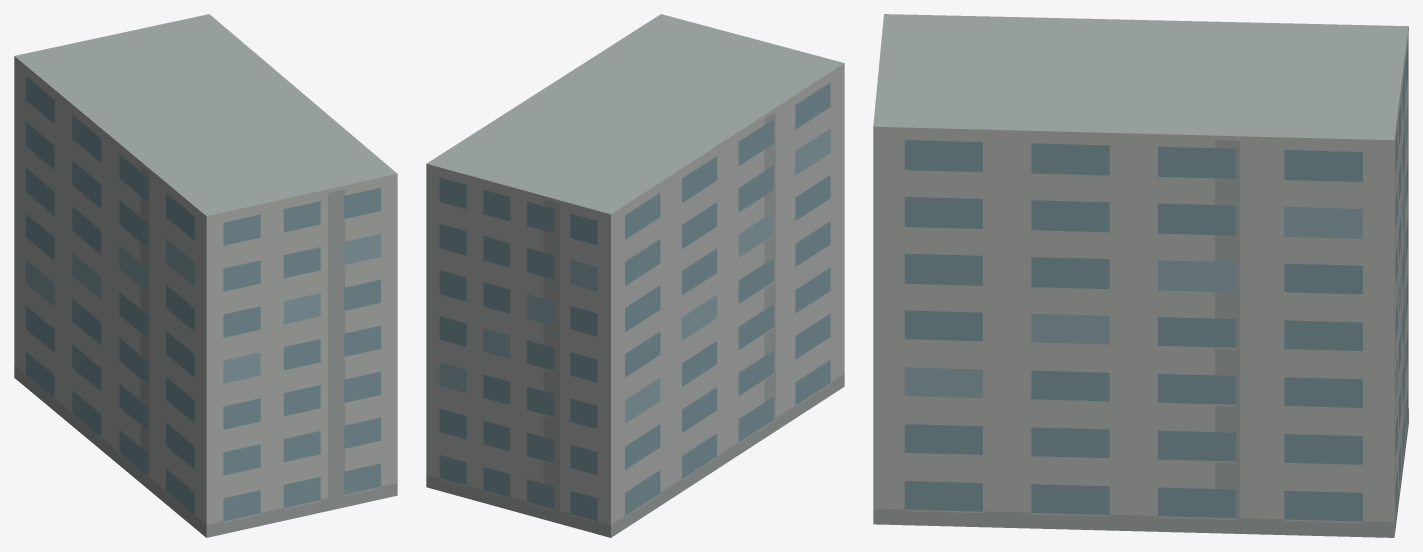
Rendered from survey-upis-32862947.glb.
The picture shows the model from 3 angles, left to right: view 1: azimuth 30°, elevation 25°; view 2: azimuth 150°, elevation 25°; view 3: azimuth 270°, elevation 25°; orthographic projection. The views are drawn at different scales.
Visible parts, largest first — view 1: survey-upis-32862947.tmp; view 2: survey-upis-32862947.tmp; view 3: survey-upis-32862947.tmp.
Part boxes in pixels (x1=…): survey-upis-32862947.tmp: x1=14, y1=14, x2=397, y2=537; survey-upis-32862947.tmp: x1=426, y1=14, x2=844, y2=537; survey-upis-32862947.tmp: x1=873, y1=14, x2=1408, y2=537.
Bounding box in the file's own units: 14.11 × 20.7 × 25.28.
